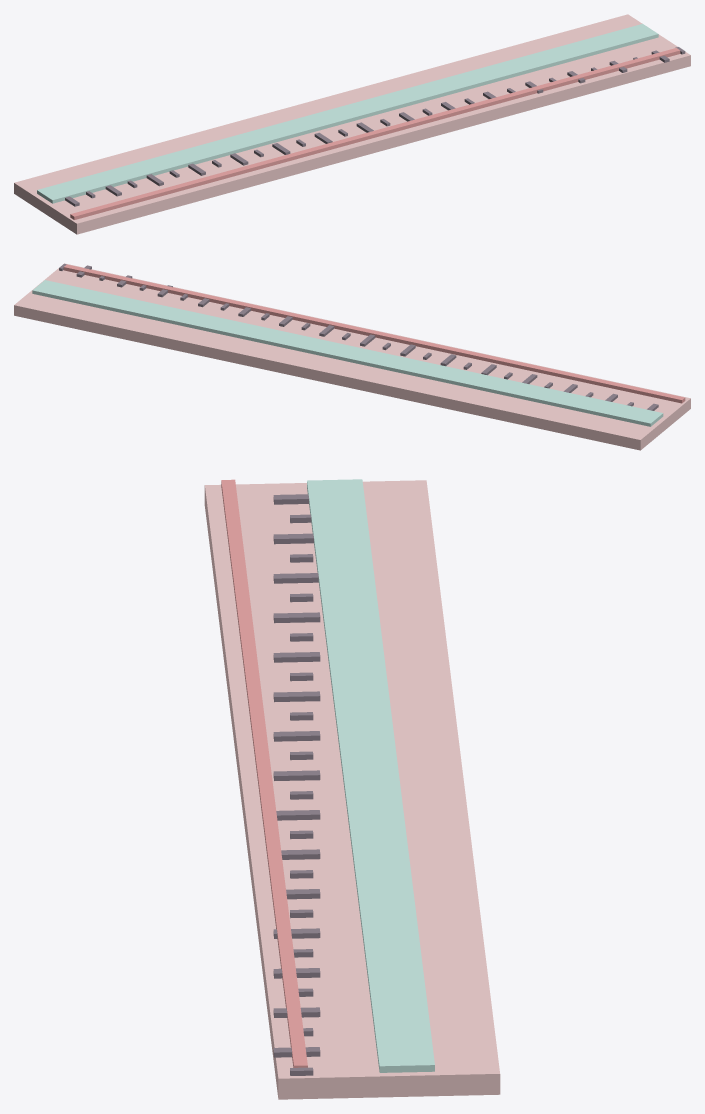
File: item_81_ruler.glb
3 renders of one model, top to bottom at view 1: azimuth 30°, elevation 25°; view 2: azimuth 150°, elevation 25°; view 3: azimuth 270°, elevation 25°, orthographic. The views are drawn at different scales.
Parts seen in each view (by area): view 1: I81_Body, I81_MidBand, I81_EdgeLine; view 2: I81_Body, I81_MidBand, I81_EdgeLine; view 3: I81_Body, I81_MidBand, I81_EdgeLine.
Boxes of the visible parts, x1,y1,x2,y2 form: I81_Body: [14, 14, 690, 234]; I81_MidBand: [37, 23, 658, 203]; I81_EdgeLine: [70, 48, 680, 219]; I81_Body: [14, 263, 690, 450]; I81_MidBand: [32, 280, 663, 426]; I81_EdgeLine: [63, 264, 685, 403]; I81_Body: [204, 480, 500, 1099]; I81_MidBand: [307, 479, 434, 1072]; I81_EdgeLine: [221, 479, 307, 1067].
Size of the model in its own units: 0.153 by 0.0033 by 0.0319.
